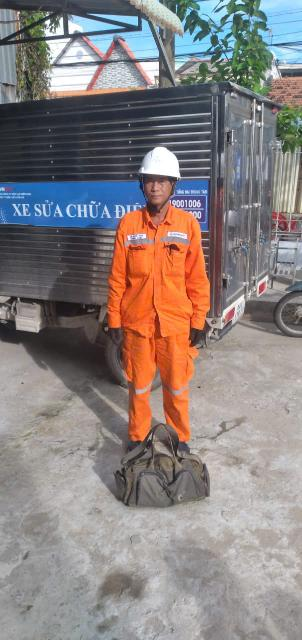gloves: (96, 314, 137, 351), (186, 314, 217, 353)
helmet: (133, 143, 186, 186)
shoes: (158, 422, 211, 469), (113, 419, 159, 464)
